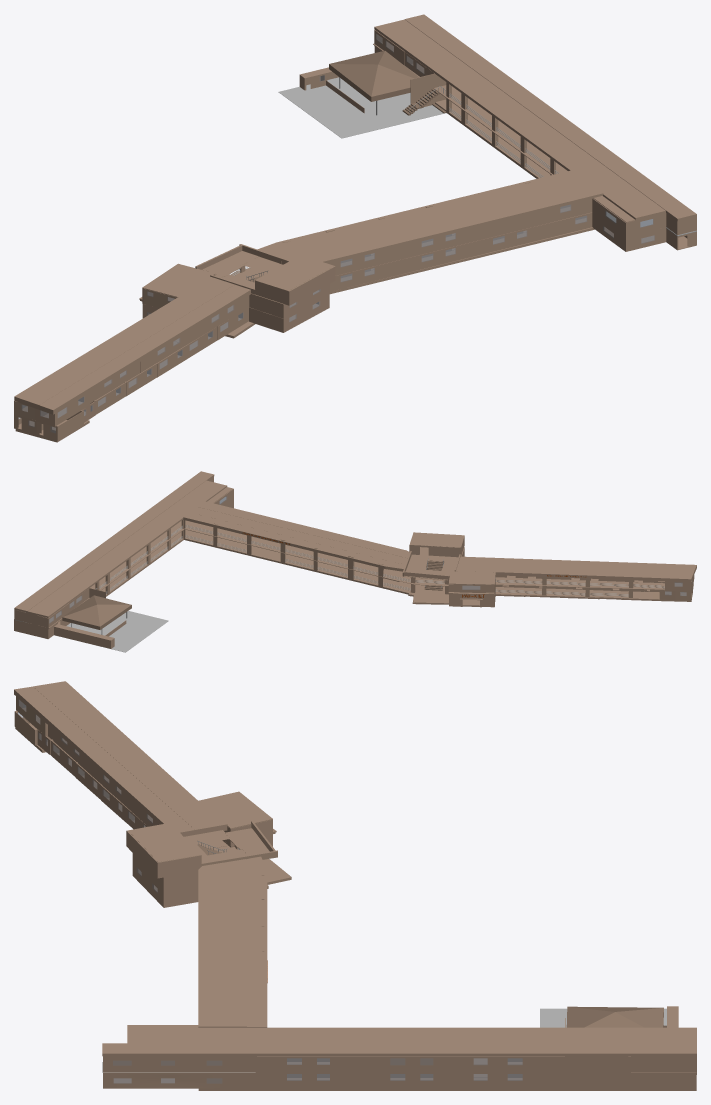
Rendered from KIET_FRONT_Full 1.fbx.
3 views of the same model, one above another, from view 1: azimuth 30°, elevation 25°; view 2: azimuth 150°, elevation 25°; view 3: azimuth 270°, elevation 25° (orthographic). The views are drawn at different scales.
Parts seen in each view (by area): view 1: pCube137; view 2: pCube137; view 3: pCube137.
Boxes of the visible parts, left/top/right/bottom form: pCube137: left=14, top=14, right=696, bottom=442; pCube137: left=14, top=471, right=696, bottom=652; pCube137: left=14, top=681, right=696, bottom=1090.
Bounding box in the file's own units: 1337 × 83.1 × 1036.
